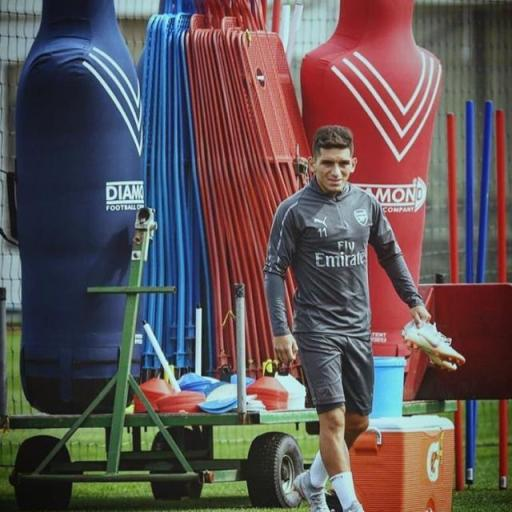Emirates: (312, 238, 370, 270)
